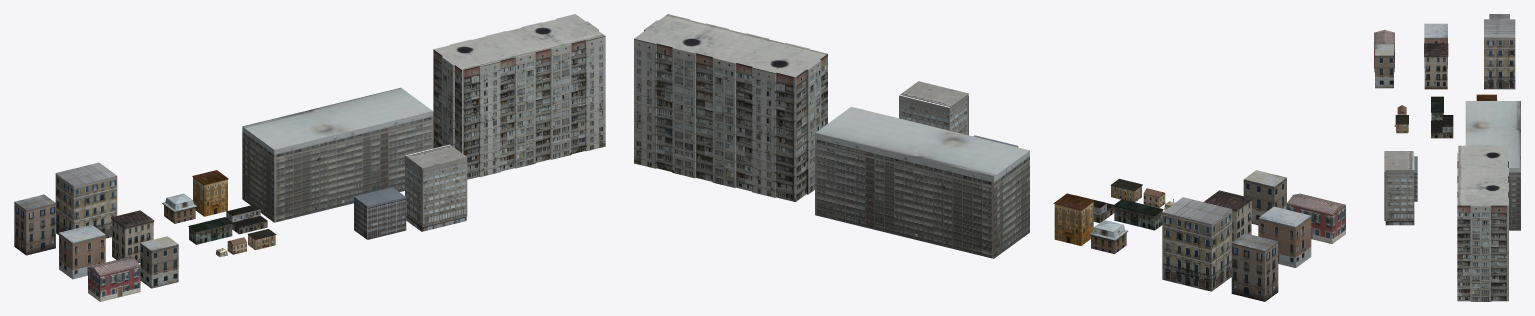
File: Edificios.dae
3 renders of one model, left to right at view 1: azimuth 30°, elevation 25°; view 2: azimuth 150°, elevation 25°; view 3: azimuth 270°, elevation 25°, orthographic. The views are drawn at different scales.
Visible parts, largest first — view 1: Cube.015, Cube.006, Cube.007, Cube.013, Cube.001, Cube.014, Cube.010, Cube.012, Cube.011, Cube.009, Cube.005, Cube.004 (+3 smaller); view 2: Cube.015, Cube.006, Cube.013, Cube.014, Cube.007, Cube.010, Cube.012, Cube.005, Cube.011, Cube.009, Cube.004, Cube.008 (+1 smaller); view 3: Cube.015, Cube.006, Cube.007, Cube.013, Cube.009, Cube.011, Cube.010, Cube.003, Cube.012, Cube.004, Cube, Cube.001 (+2 smaller).
Boxes of the visible parts, bbox=[...] form: Cube.015: bbox=[433, 14, 605, 179]; Cube.006: bbox=[242, 87, 433, 222]; Cube.007: bbox=[405, 144, 467, 231]; Cube.013: bbox=[55, 162, 117, 238]; Cube.001: bbox=[354, 187, 406, 239]; Cube.014: bbox=[14, 194, 55, 255]; Cube.010: bbox=[59, 224, 105, 279]; Cube.012: bbox=[88, 257, 140, 301]; Cube.011: bbox=[140, 236, 178, 288]; Cube.009: bbox=[111, 210, 154, 262]; Cube.005: bbox=[192, 170, 228, 216]; Cube.004: bbox=[188, 217, 232, 244]; Cube.015: bbox=[634, 14, 827, 201]; Cube.006: bbox=[815, 106, 1029, 258]; Cube.013: bbox=[1162, 197, 1232, 291]; Cube.014: bbox=[1231, 233, 1278, 301]; Cube.007: bbox=[899, 81, 968, 135]; Cube.010: bbox=[1258, 206, 1311, 267]; Cube.012: bbox=[1286, 193, 1345, 243]; Cube.005: bbox=[1053, 193, 1094, 245]; Cube.011: bbox=[1243, 170, 1286, 225]; Cube.009: bbox=[1204, 190, 1252, 241]; Cube.004: bbox=[1113, 199, 1163, 230]; Cube.008: bbox=[1089, 220, 1128, 253]; Cube.015: bbox=[1457, 145, 1508, 301]; Cube.006: bbox=[1465, 101, 1520, 230]; Cube.007: bbox=[1384, 151, 1414, 225]; Cube.013: bbox=[1484, 19, 1515, 89]; Cube.009: bbox=[1424, 43, 1448, 89]; Cube.011: bbox=[1375, 44, 1393, 88]; Cube.010: bbox=[1424, 23, 1447, 68]; Cube.003: bbox=[1431, 115, 1453, 138]; Cube.012: bbox=[1374, 29, 1394, 72]; Cube.004: bbox=[1431, 96, 1443, 120]; Cube: bbox=[1394, 115, 1408, 133]; Cube.001: bbox=[1414, 156, 1417, 201].
Bounding box in the file's own units: 110 × 28.88 × 20.74.
Materials: 17 (17 with a texture image).
